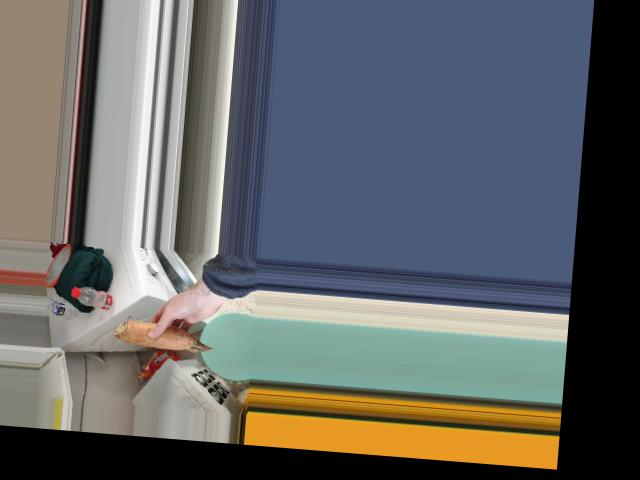sweet_potato: (122, 314, 211, 352)
